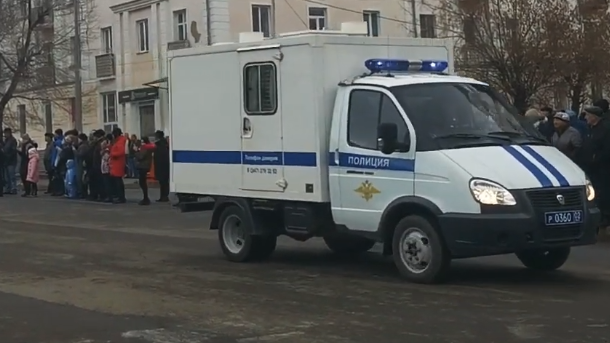police car: (166, 26, 602, 283)
